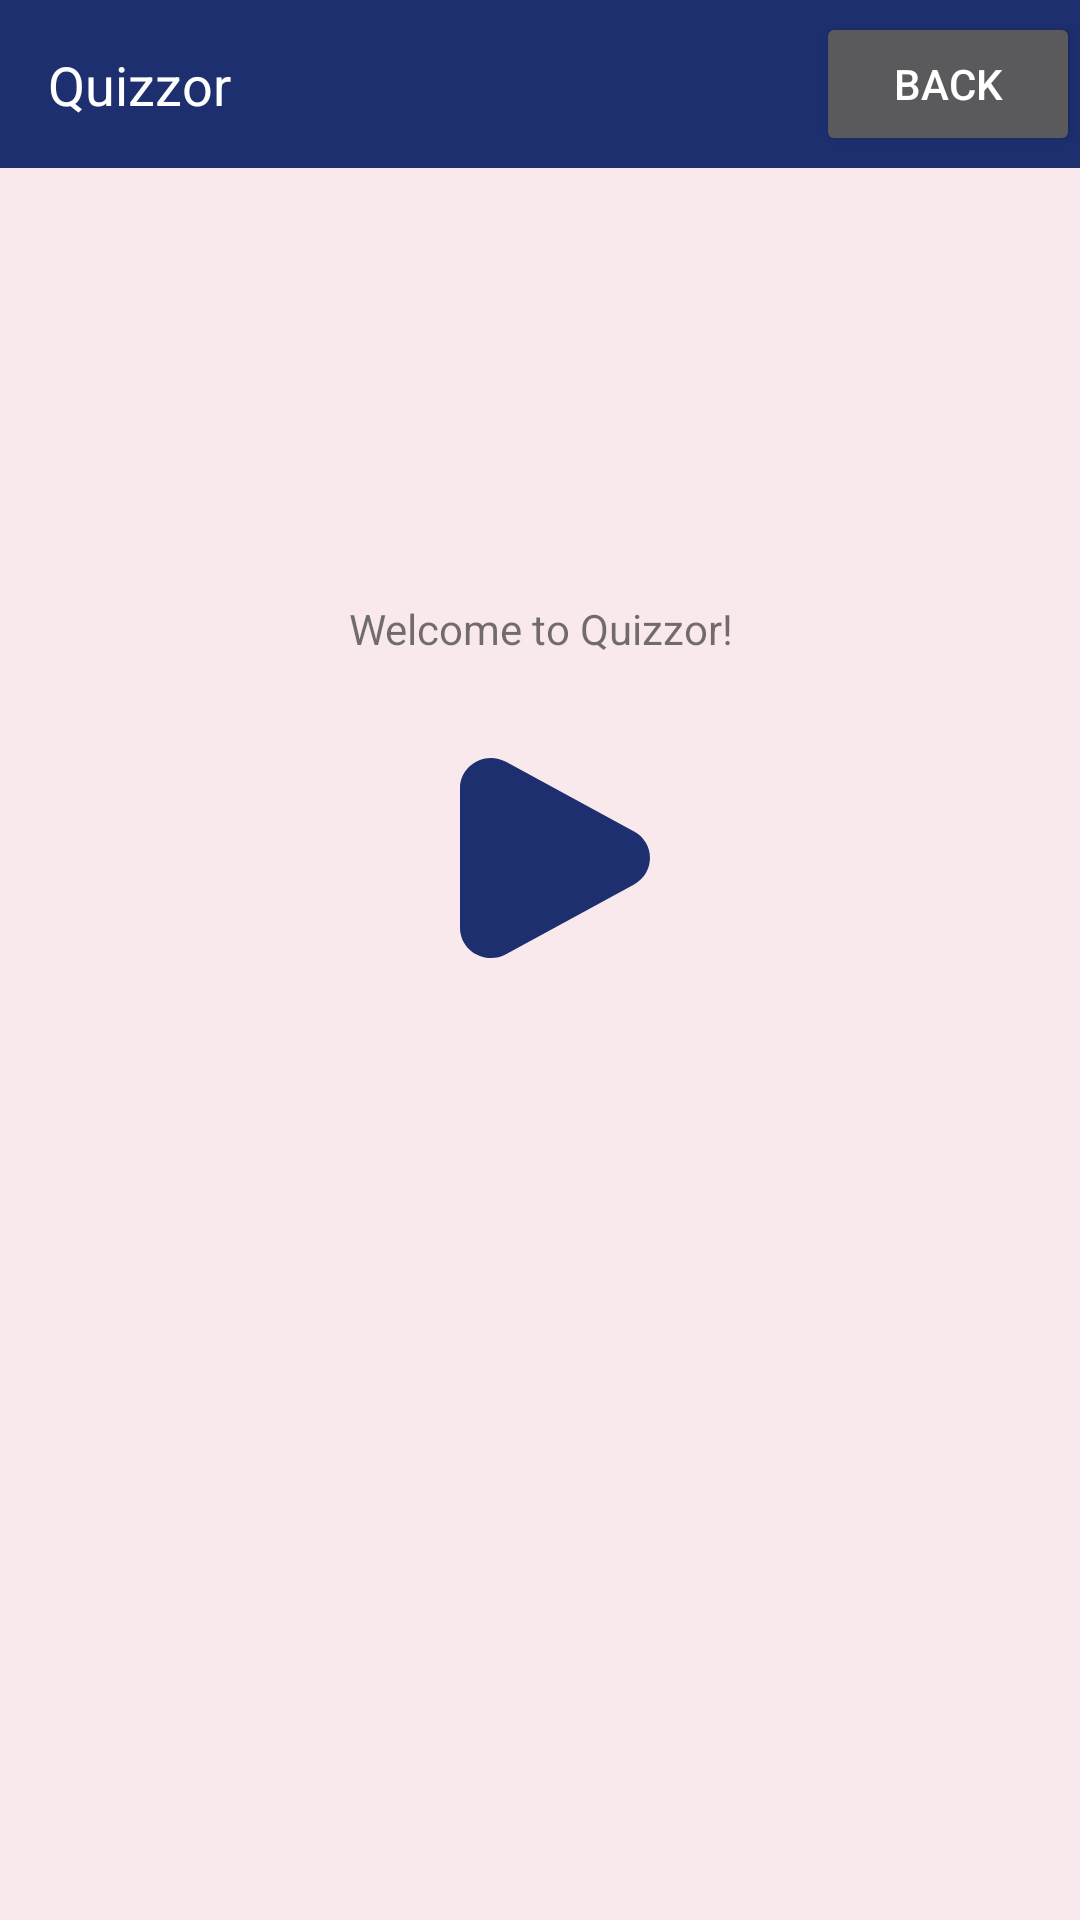

Icon bounding boxes for this 1080*1920 phone screenshot, format {"x1": x1, "y1": y1, "x2": x2, "y2": y2}:
playbtn: {"x1": 460, "y1": 758, "x2": 650, "y2": 958}
